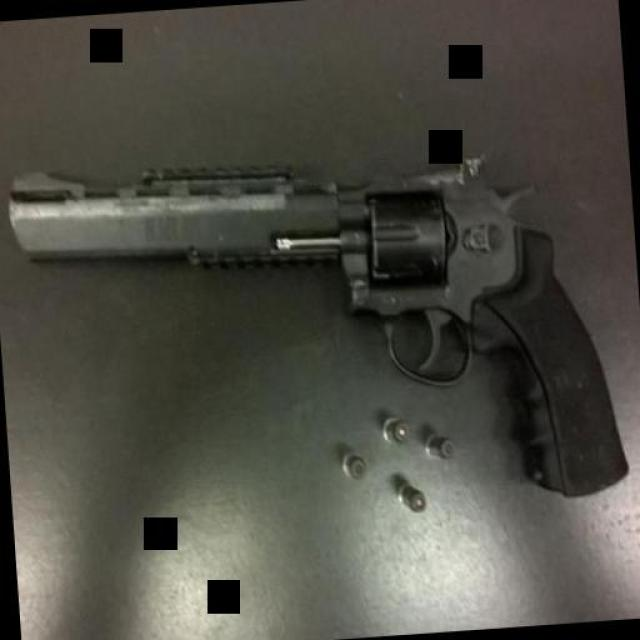gun: (0, 110, 632, 545)
